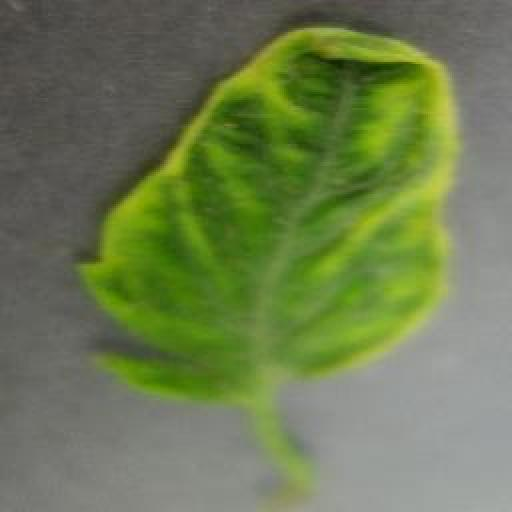Yellow Leaf Curl Virus: (78, 23, 457, 409)
